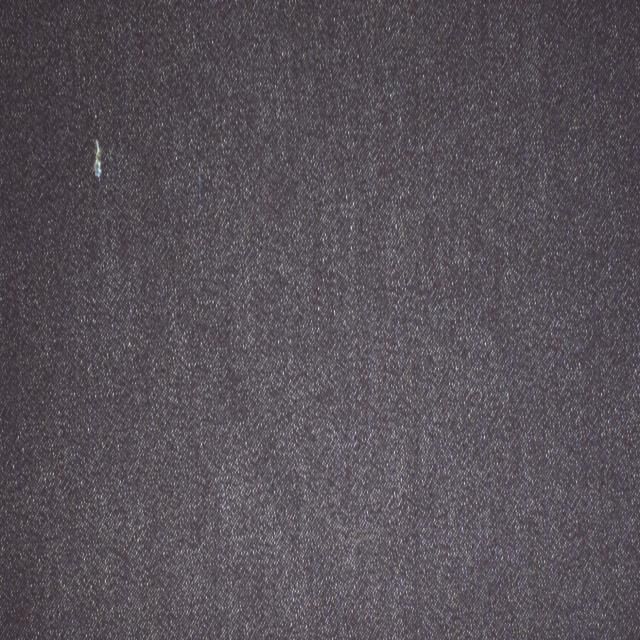Knot: (94, 139, 102, 178)
